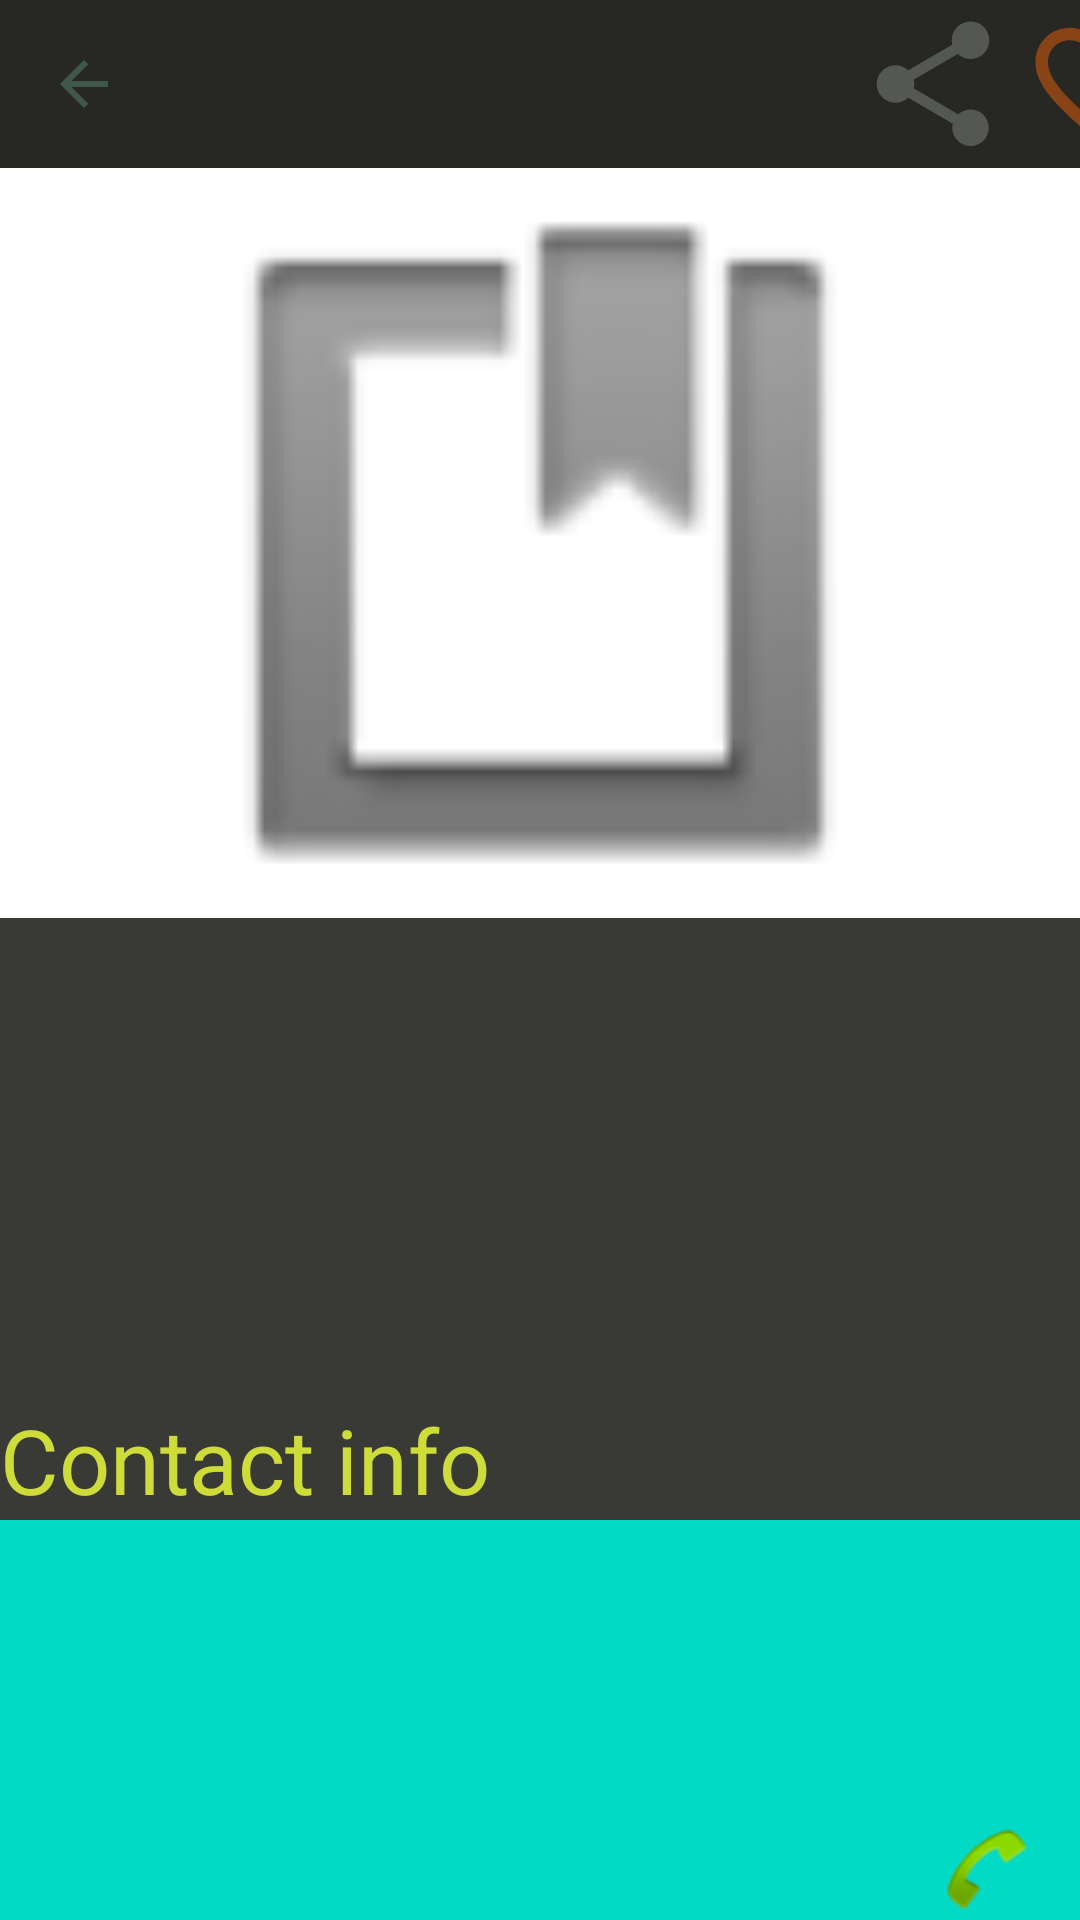

Where to tap for icons on this 1080x1920 app screen, as point (x, y):
sym action call: point (987, 1869)
